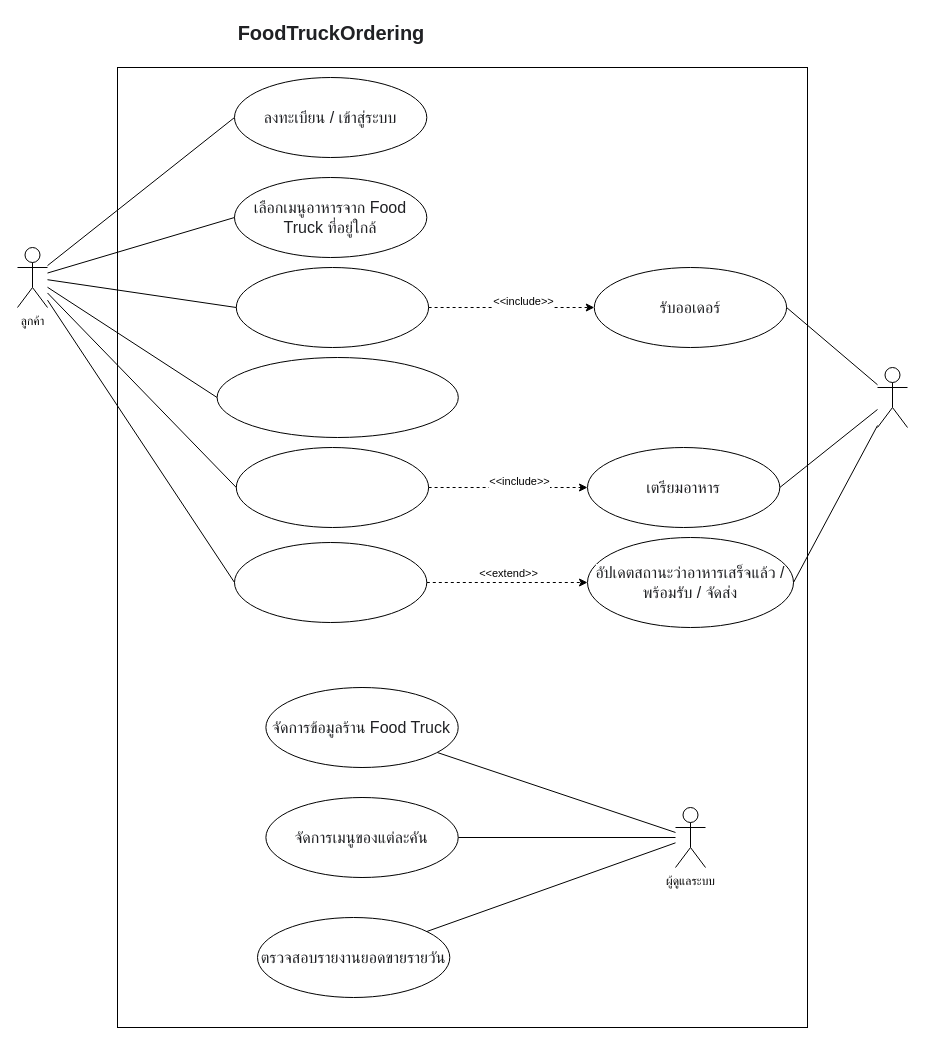
The diagram is 929 pixels wide and 1045 high, and some of its shapes have lost their labels. The shapes that lost their labels are listed below. From the top down, each one's centre as x and y in pixels, then its label:
the point at 332,307: สั่งอาหาร
the point at 337,397: เลือกช่องทางรับอาหาร (หน้ารถ / เดลิเวอรี่)
the point at 892,397: พนักงาน
the point at 332,487: ชำระเงิน
the point at 330,582: ตรวจสอบสถานะการสั่งซื้อ
